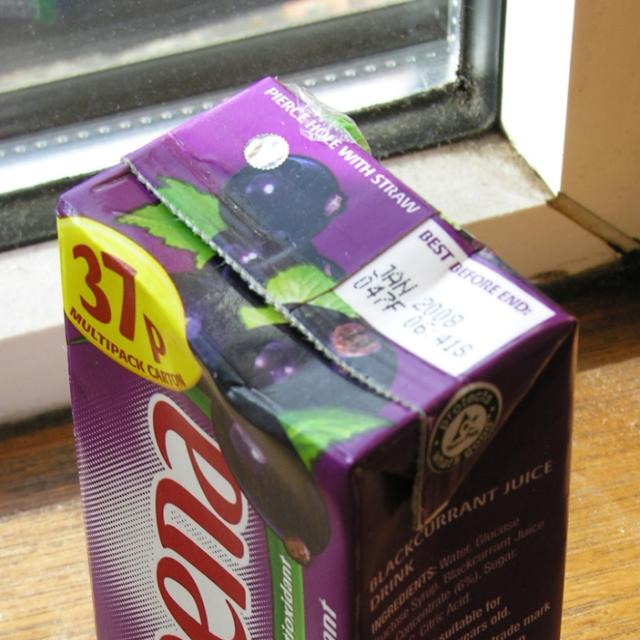cardboard: (57, 74, 577, 640)
